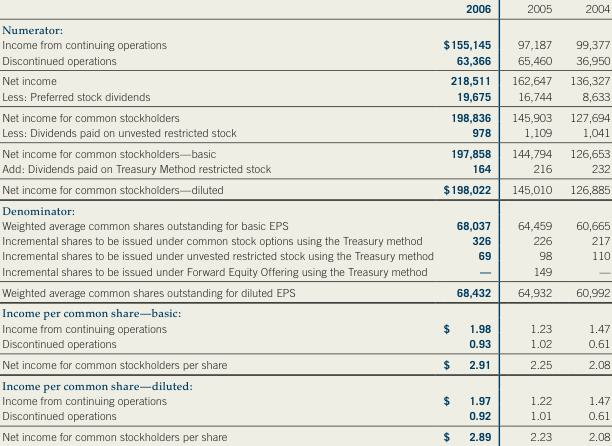table: (1, 1, 609, 442)
table column: (1, 1, 438, 442), (438, 1, 500, 442), (500, 1, 560, 442), (560, 1, 609, 442)
table column header: (1, 1, 609, 18)
table projected row header: (1, 18, 609, 36), (1, 199, 609, 217), (1, 302, 609, 320), (1, 374, 609, 392)
table row: (1, 178, 609, 199), (1, 281, 609, 302), (1, 353, 609, 374), (1, 87, 609, 106), (1, 262, 609, 281), (1, 18, 609, 36), (1, 51, 609, 69), (1, 69, 609, 87), (1, 106, 609, 124), (1, 124, 609, 142), (1, 142, 609, 160), (1, 160, 609, 178), (1, 199, 609, 217), (1, 302, 609, 320), (1, 335, 609, 353), (1, 374, 609, 392), (1, 407, 609, 425), (1, 1, 609, 18), (1, 425, 609, 442), (1, 36, 609, 51), (1, 217, 609, 232), (1, 232, 609, 247), (1, 247, 609, 262), (1, 320, 609, 335), (1, 392, 609, 407)
